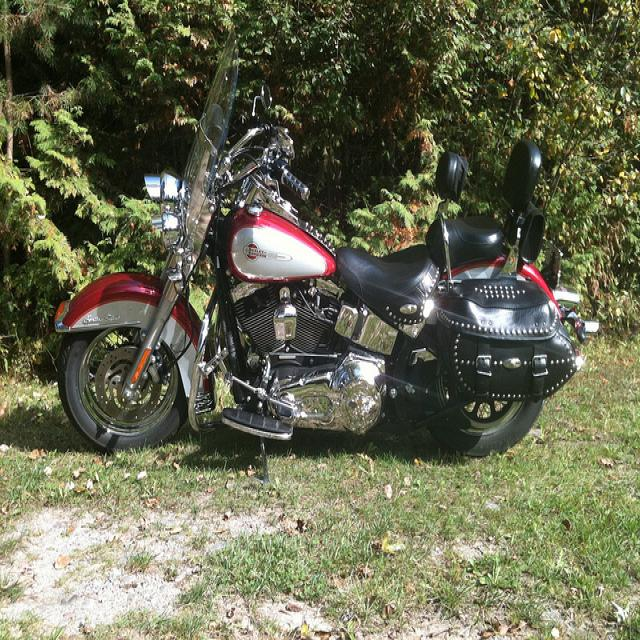motor: (59, 14, 602, 483)
